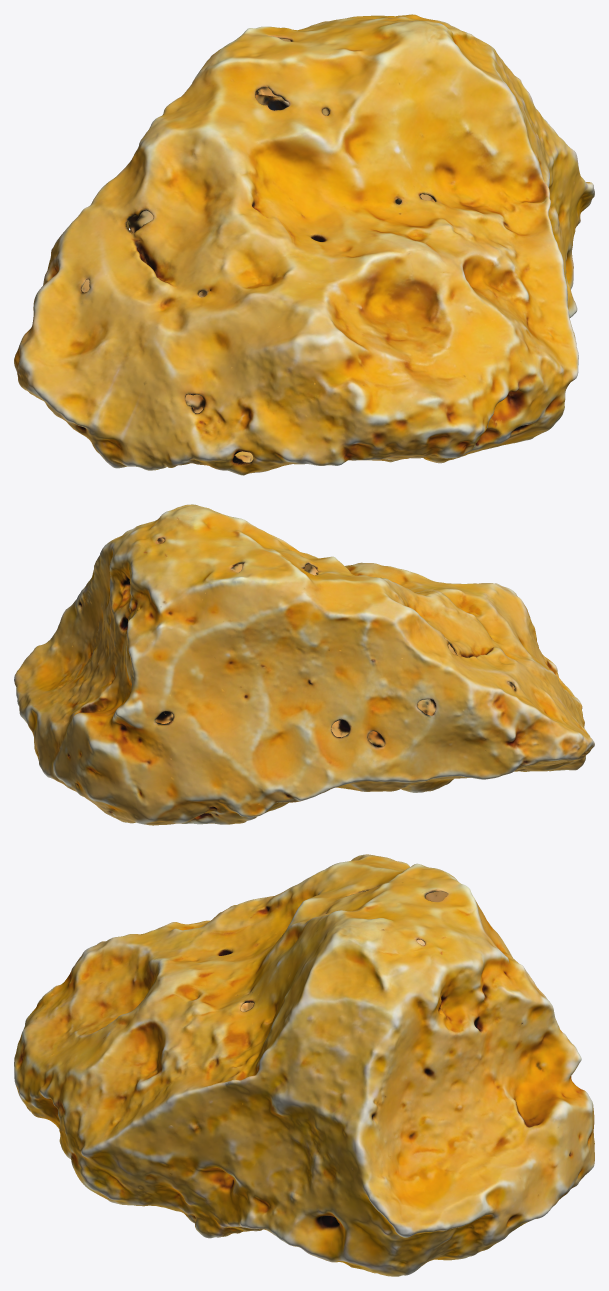
File: oro.glb
The picture shows the model from 3 angles, top to bottom: view 1: azimuth 30°, elevation 25°; view 2: azimuth 150°, elevation 25°; view 3: azimuth 270°, elevation 25°; orthographic projection. The views are drawn at different scales.
Bounding box in the file's own units: 2 × 0.984 × 1.71.
1 material, 1 textured.
